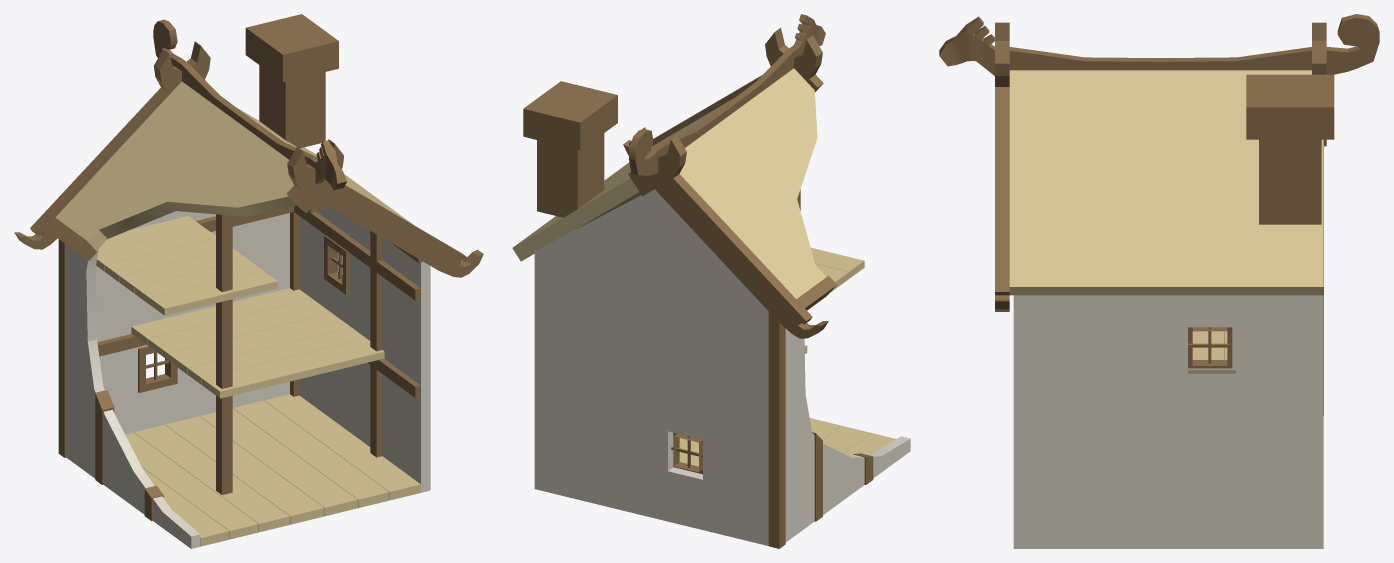
Rendered from cats_house_draft.fbx.
The picture shows the model from 3 angles, left to right: view 1: azimuth 30°, elevation 25°; view 2: azimuth 150°, elevation 25°; view 3: azimuth 270°, elevation 25°; orthographic projection. The views are drawn at different scales.
Visible parts, largest first — view 1: polySurface23, first_floor, first_floor2, second_floor, polySurface75, polySurface92, third_floor, table1, polySurface69, polySurface89, polySurface39, polySurface24 (+7 smaller); view 2: polySurface23, first_floor2, polySurface92, table1, polySurface75, polySurface76, polySurface89, first_floor, third_floor, polySurface86, polySurface85, window; view 3: polySurface23, first_floor2, table1, polySurface89, polySurface92, window1, second_floor.
Boxes of the visible parts, <box> form: polySurface23: <box>95,205,430,492</box>; first_floor: <box>125,394,420,546</box>; first_floor2: <box>55,81,413,250</box>; second_floor: <box>131,288,384,398</box>; polySurface75: <box>66,245,200,548</box>; polySurface92: <box>14,41,483,277</box>; third_floor: <box>96,216,277,315</box>; table1: <box>245,14,338,148</box>; polySurface69: <box>216,214,232,494</box>; polySurface89: <box>153,19,346,189</box>; polySurface39: <box>370,231,382,457</box>; polySurface24: <box>196,206,420,300</box>; polySurface23: <box>534,189,768,545</box>; first_floor2: <box>512,68,826,298</box>; polySurface92: <box>623,27,828,338</box>; table1: <box>523,81,617,217</box>; polySurface75: <box>768,311,910,545</box>; polySurface76: <box>768,312,785,548</box>; polySurface89: <box>629,14,825,175</box>; first_floor: <box>679,418,896,466</box>; third_floor: <box>811,247,864,292</box>; polySurface86: <box>812,432,822,521</box>; polySurface85: <box>796,275,836,310</box>; window: <box>673,432,702,474</box>; polySurface23: <box>1013,295,1323,548</box>; first_floor2: <box>1009,70,1323,295</box>; table1: <box>1246,74,1334,224</box>; polySurface89: <box>939,14,1379,75</box>; polySurface92: <box>995,22,1326,311</box>; window1: <box>1188,327,1236,373</box>; second_floor: <box>1192,331,1227,359</box>.
Size of the model in its own units: 618 by 700 by 602.
